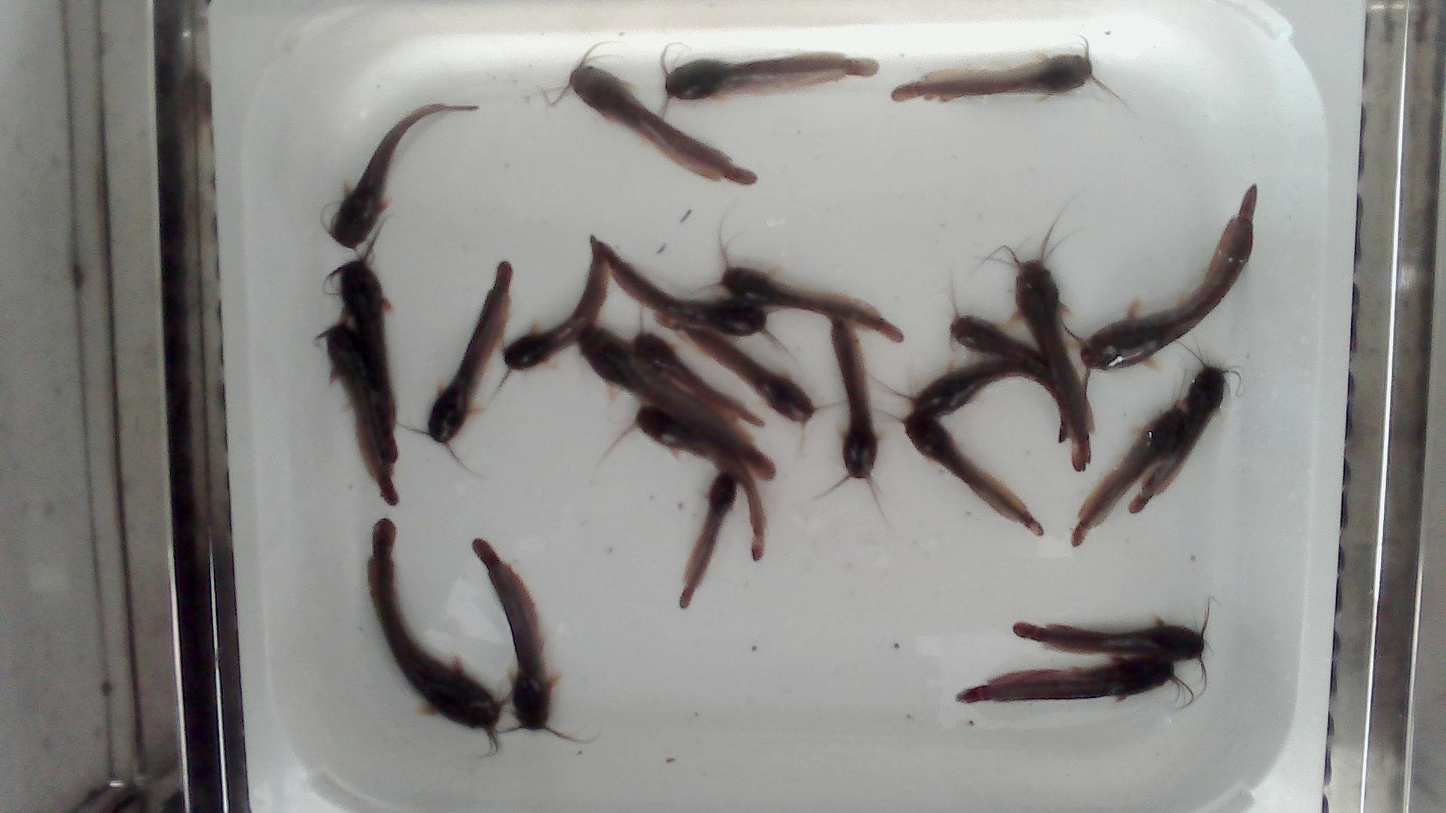lele: (1063, 185, 1256, 390), (975, 193, 1097, 471), (368, 519, 504, 753), (579, 324, 780, 482), (549, 41, 756, 184), (651, 312, 844, 459), (691, 217, 907, 345), (601, 240, 805, 368), (603, 404, 765, 562), (472, 538, 581, 741), (407, 260, 512, 468), (1010, 594, 1215, 700), (875, 411, 1046, 537), (1069, 365, 1188, 546), (329, 105, 477, 248), (320, 211, 400, 465), (1129, 341, 1246, 514), (491, 232, 609, 403), (313, 303, 402, 509), (811, 319, 892, 531), (869, 356, 1070, 440), (634, 305, 765, 428), (660, 48, 878, 114), (891, 41, 1112, 102), (955, 656, 1197, 711), (946, 269, 1055, 377), (676, 471, 738, 609)
